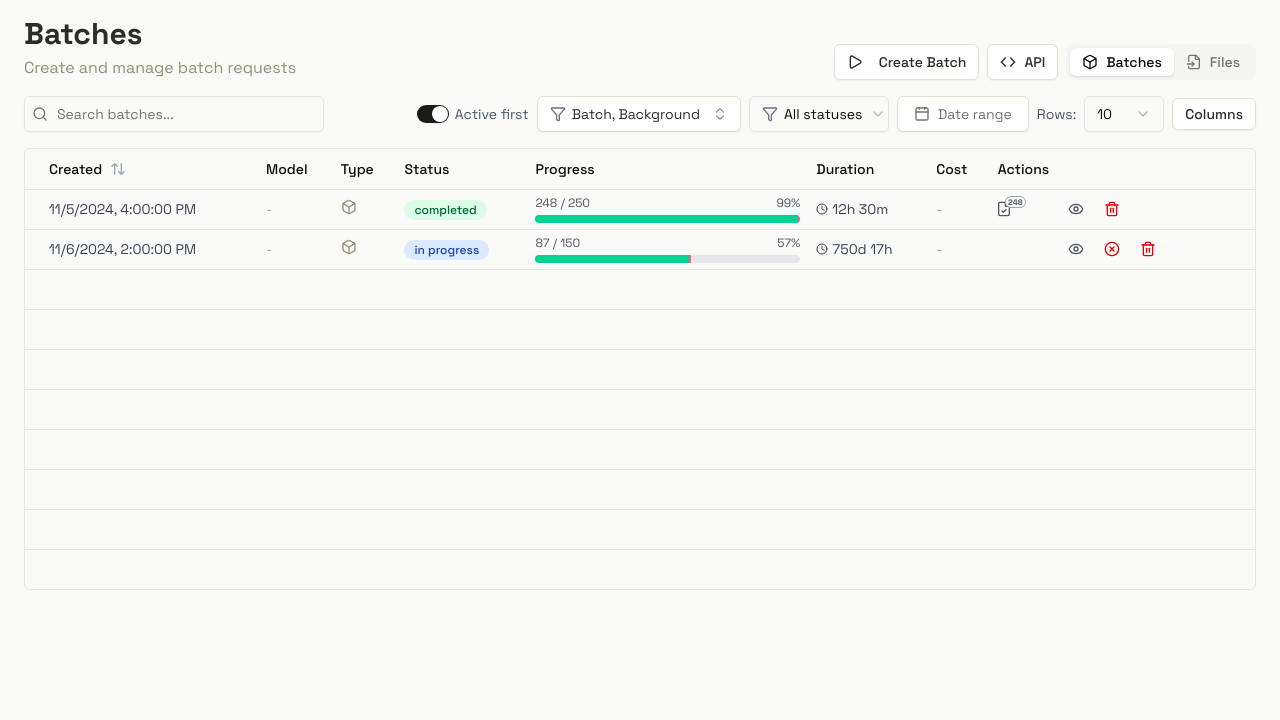
Test: Batches › Empty States › should show empty state when no files exist
Click the tab "Files" at (1213, 62), box [1174,48,1252,76]
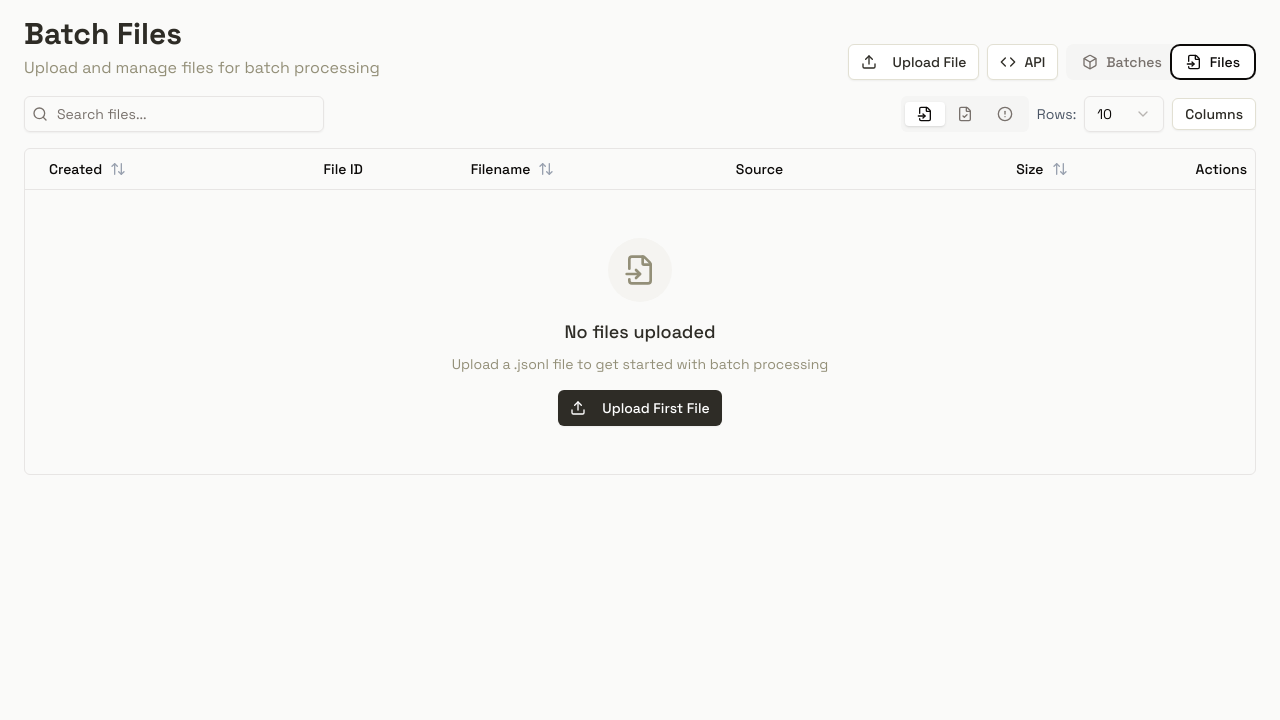
Now the heading "No files uploaded" is shown, box [564,320,715,342]
Now the text "Upload a .jsonl file to get started with batch processing" is shown, box [452,354,828,372]
Now the button "Upload First File" is shown, box [558,390,722,426]
